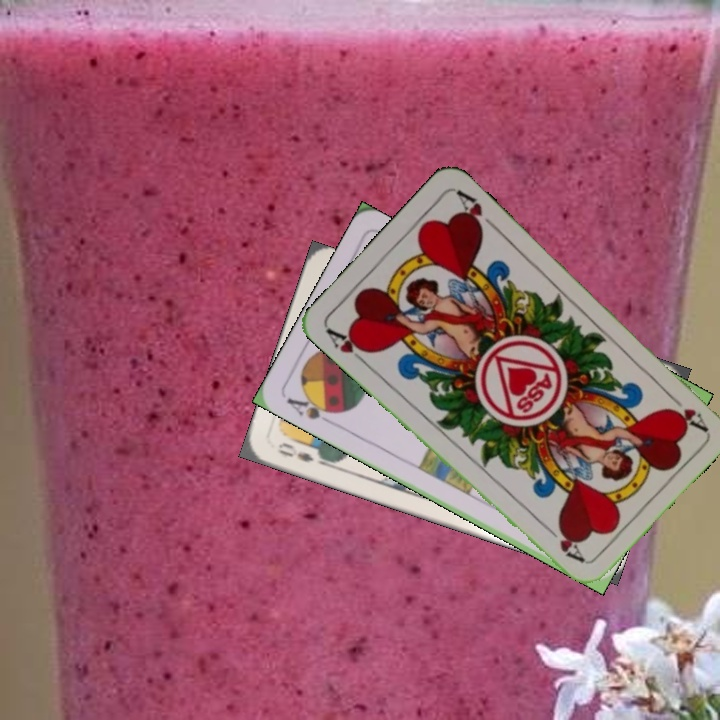EO: (273, 436, 326, 467)
HA: (322, 323, 375, 368), (661, 387, 709, 433)
SA: (282, 389, 341, 428)
